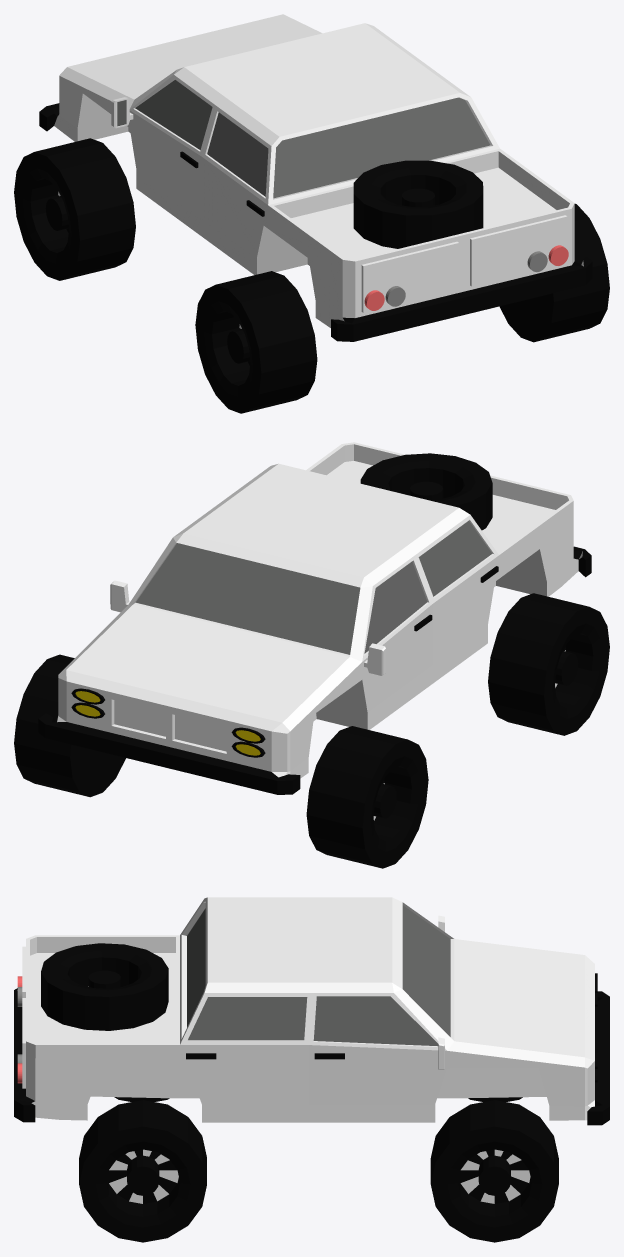
File: Car004.glb
3 views of the same model, one above another, from view 1: azimuth 30°, elevation 25°; view 2: azimuth 150°, elevation 25°; view 3: azimuth 270°, elevation 25° (orthographic). The views are drawn at different scales.
Visible parts, largest first — view 1: Body, WheelRL, WheelFL, WheelBackup, WheelRR, BrakeLight, ReverseLight; view 2: Body, WheelFL, WheelRL, WheelFR, WheelBackup, FrontLight2, FrontLight1; view 3: Body, WheelFR, WheelRR, WheelBackup.
Part boxes in pixels (x1,y1,x2,y2): Body: (39, 14, 592, 341); WheelRL: (195, 271, 317, 413); WheelFL: (14, 138, 135, 280); WheelBackup: (353, 160, 483, 248); WheelRR: (499, 203, 609, 342); BrakeLight: (364, 245, 568, 310); ReverseLight: (385, 251, 547, 306); Body: (38, 442, 591, 794); WheelFL: (306, 726, 428, 868); WheelRL: (488, 593, 609, 735); WheelFR: (14, 654, 125, 797); WheelBackup: (360, 453, 492, 530); FrontLight2: (71, 688, 265, 743); FrontLight1: (71, 702, 265, 757); Body: (14, 897, 609, 1125); WheelFR: (430, 1100, 558, 1242); WheelRR: (79, 1100, 206, 1242); WheelBackup: (41, 943, 168, 1030).
Size of the model in its own units: 6.84 by 4.26 by 10.45.
Materials: 5 (5 with a texture image).
